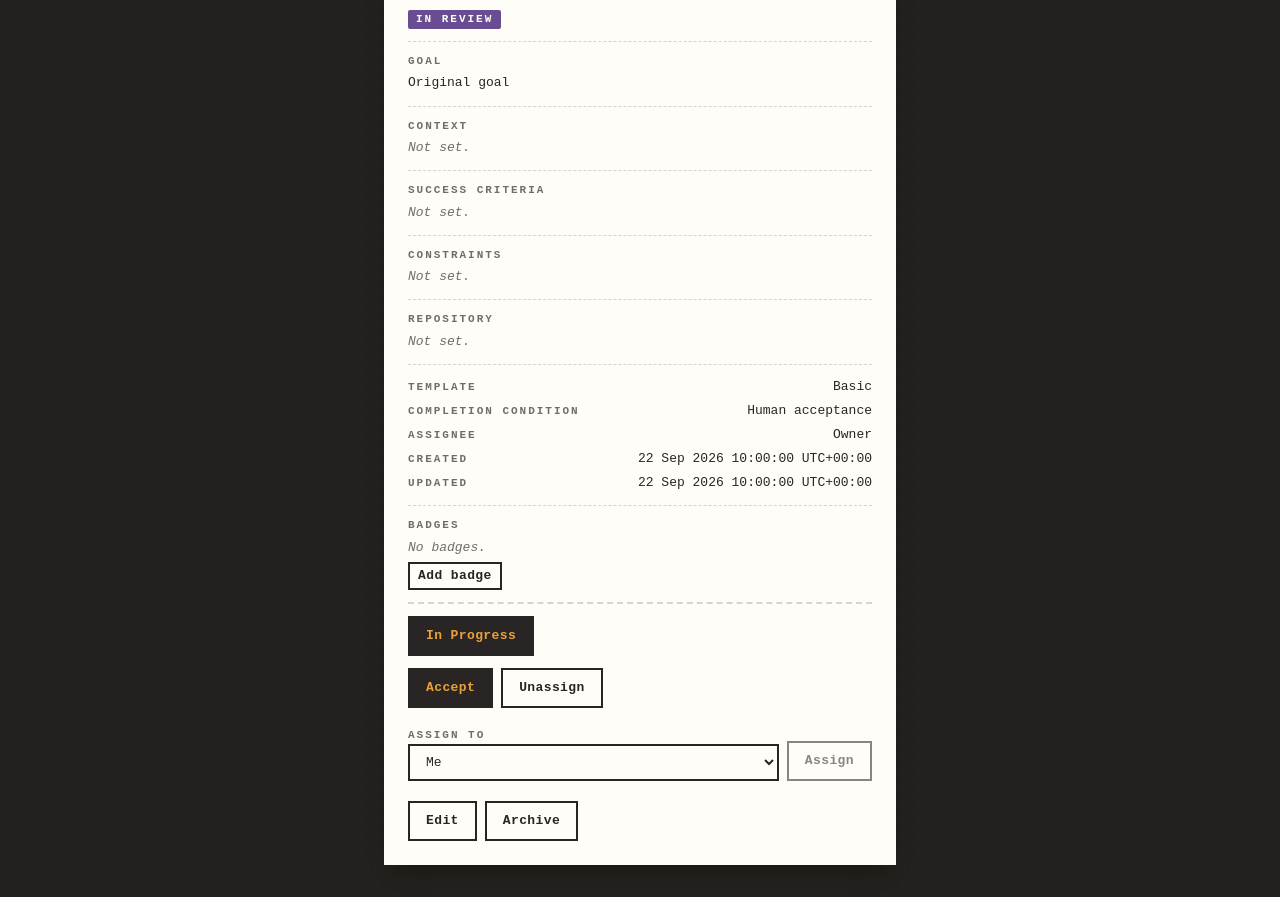
App › returns to sign-in when the Ticket edit command returns 401
This screenshot has width=1280, height=897.
(page scrolled)
Click the button with test id "ticket-detail-edit-button" at (442, 821), box top-left (408, 801), bottom-right (477, 841)
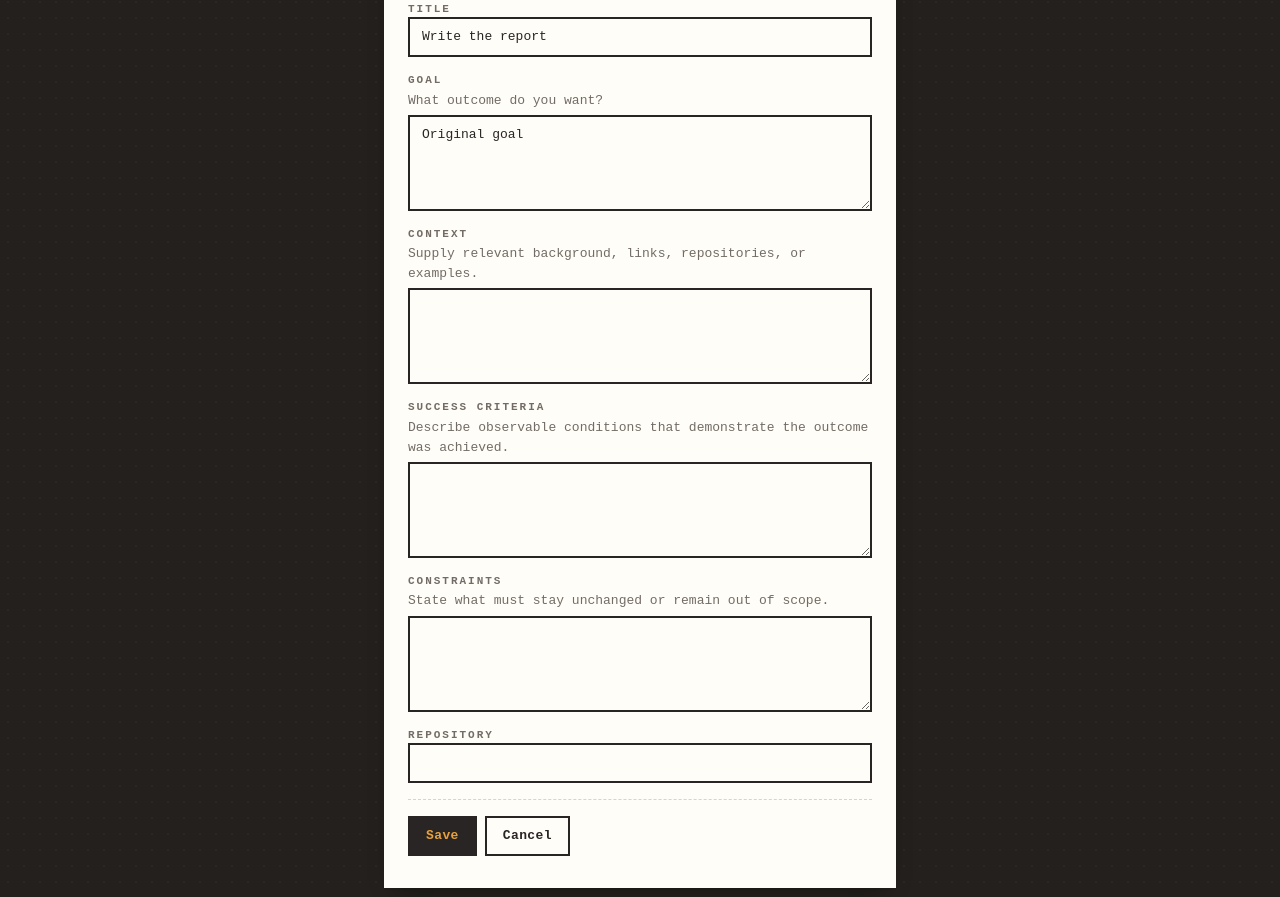
Replace the text in the text box with test id "ticket-detail-textarea-goal" with "Updated goal" at (640, 163), box top-left (408, 115), bottom-right (872, 211)
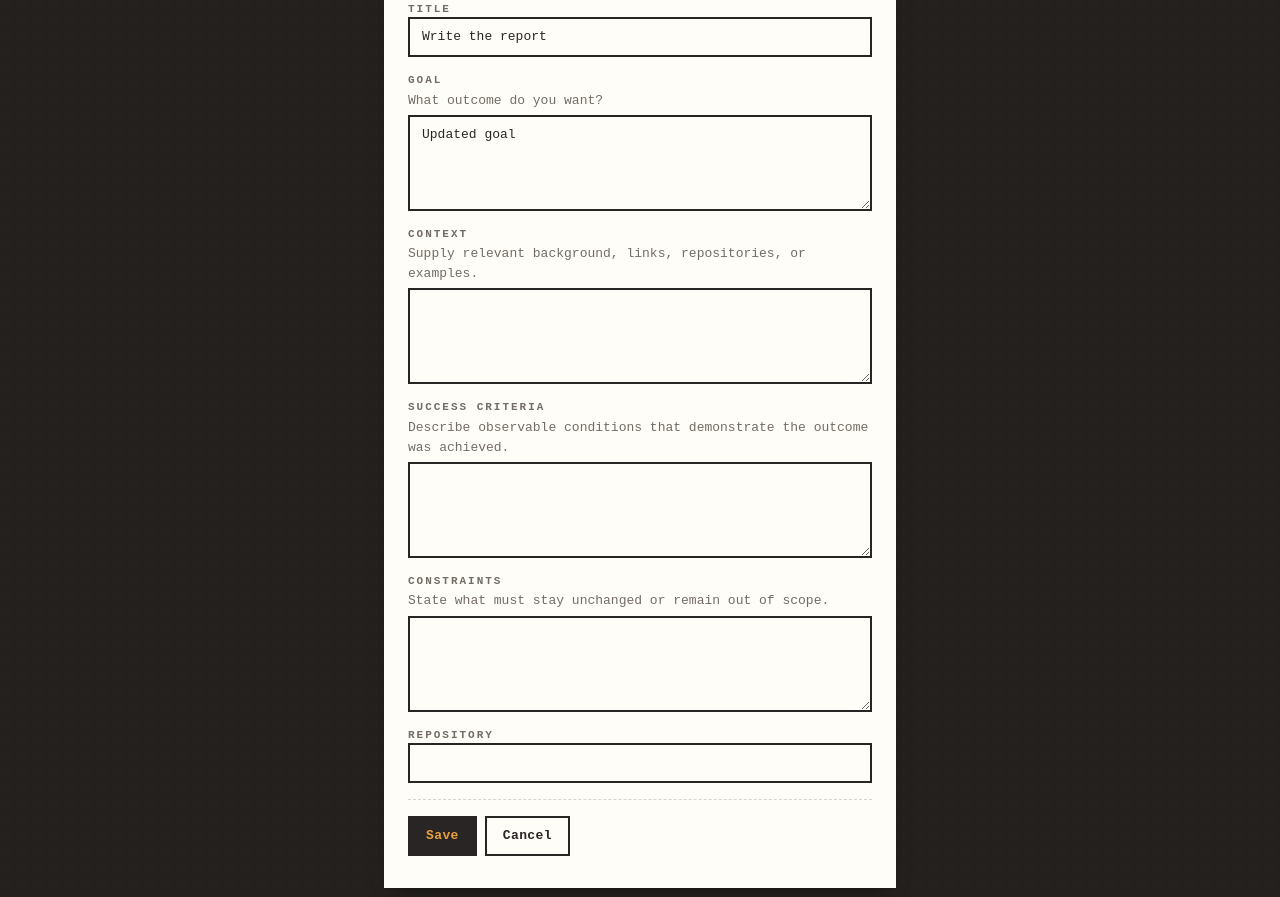
Click the button with test id "ticket-detail-save-button" at (442, 836), box top-left (408, 816), bottom-right (477, 856)
(page scrolled)
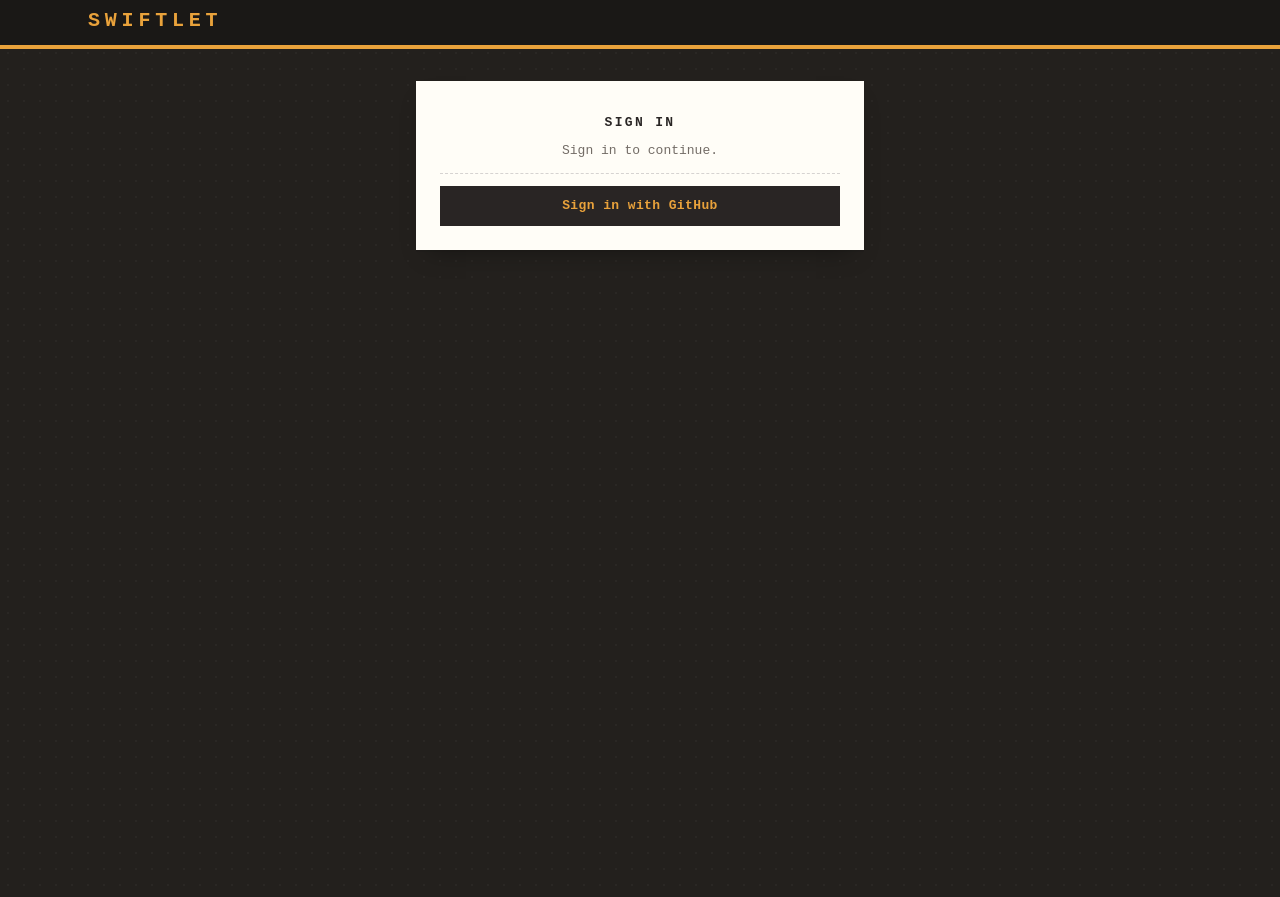
Check: the element with test id "sign-in-page" is shown, box top-left (416, 81), bottom-right (864, 250)
